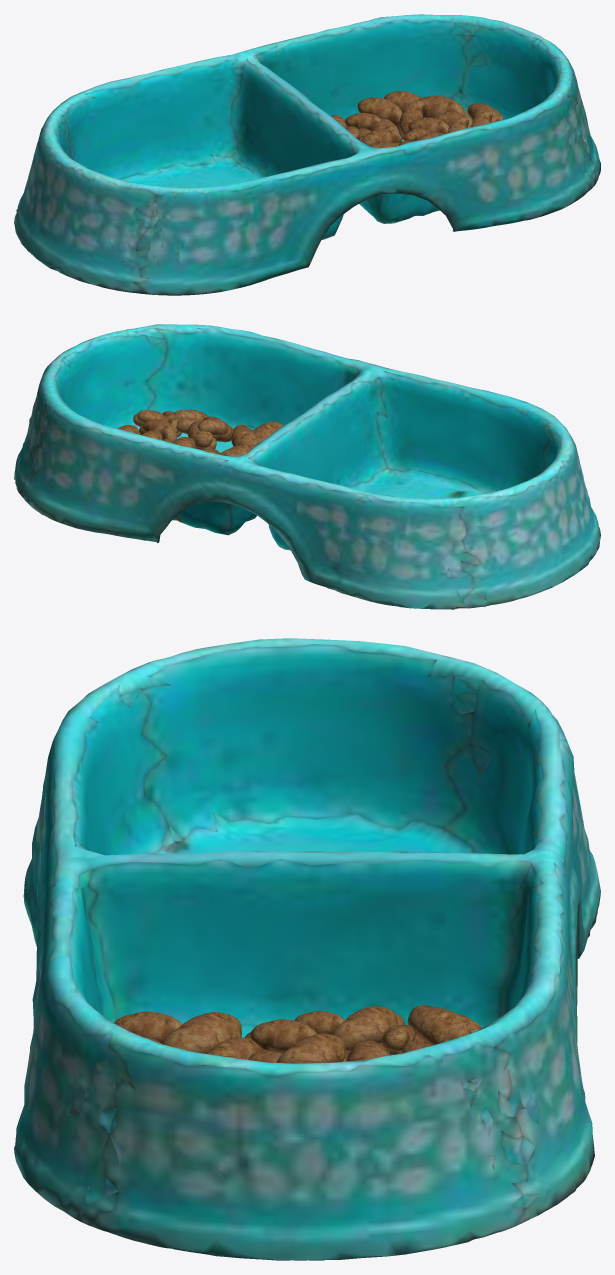
Rendered from cat food bowl with catfood.glb.
The picture shows the model from 3 angles, top to bottom: view 1: azimuth 30°, elevation 25°; view 2: azimuth 150°, elevation 25°; view 3: azimuth 270°, elevation 25°; orthographic projection. The views are drawn at different scales.
Parts seen in each view (by area): view 1: Mesh_0.005_Material_0.001_0, Russet Potato_Russet Potato PBR_0.028, Russet Potato_Russet Potato PBR_0.051, Russet Potato_Russet Potato PBR_0.066, Russet Potato_Russet Potato PBR_0.048, Russet Potato_Russet Potato PBR_0.047, Russet Potato_Russet Potato PBR_0.062, Russet Potato_Russet Potato PBR_0.030; view 2: Mesh_0.005_Material_0.001_0, Russet Potato_Russet Potato PBR_0.054, Russet Potato_Russet Potato PBR_0.010, Russet Potato_Russet Potato PBR_0.049, Russet Potato_Russet Potato PBR_0.068; view 3: Mesh_0.005_Material_0.001_0, Russet Potato_Russet Potato PBR_0.006, Russet Potato_Russet Potato PBR_0.059, Russet Potato_Russet Potato PBR_0.052, Russet Potato_Russet Potato PBR_0.057, Russet Potato_Russet Potato PBR_0.055, Russet Potato_Russet Potato PBR_0.014, Russet Potato_Russet Potato PBR_0.021.
Part boxes in pixels (x1=…): Mesh_0.005_Material_0.001_0: x1=14, y1=14, x2=600, y2=295; Russet Potato_Russet Potato PBR_0.028: x1=357, y1=97, x2=402, y2=126; Russet Potato_Russet Potato PBR_0.051: x1=418, y1=95, x2=465, y2=117; Russet Potato_Russet Potato PBR_0.066: x1=399, y1=100, x2=425, y2=135; Russet Potato_Russet Potato PBR_0.048: x1=408, y1=117, x2=448, y2=134; Russet Potato_Russet Potato PBR_0.047: x1=361, y1=129, x2=401, y2=145; Russet Potato_Russet Potato PBR_0.062: x1=345, y1=112, x2=380, y2=129; Russet Potato_Russet Potato PBR_0.030: x1=384, y1=91, x2=420, y2=112; Mesh_0.005_Material_0.001_0: x1=14, y1=324, x2=600, y2=609; Russet Potato_Russet Potato PBR_0.054: x1=142, y1=419, x2=176, y2=440; Russet Potato_Russet Potato PBR_0.010: x1=231, y1=424, x2=257, y2=446; Russet Potato_Russet Potato PBR_0.049: x1=188, y1=420, x2=212, y2=448; Russet Potato_Russet Potato PBR_0.068: x1=198, y1=418, x2=228, y2=434; Mesh_0.005_Material_0.001_0: x1=14, y1=638, x2=600, y2=1260; Russet Potato_Russet Potato PBR_0.006: x1=162, y1=1012, x2=241, y2=1053; Russet Potato_Russet Potato PBR_0.059: x1=407, y1=1005, x2=471, y2=1045; Russet Potato_Russet Potato PBR_0.052: x1=331, y1=1006, x2=397, y2=1051; Russet Potato_Russet Potato PBR_0.057: x1=250, y1=1019, x2=316, y2=1052; Russet Potato_Russet Potato PBR_0.055: x1=277, y1=1033, x2=345, y2=1063; Russet Potato_Russet Potato PBR_0.014: x1=114, y1=1011, x2=182, y2=1043; Russet Potato_Russet Potato PBR_0.021: x1=206, y1=1037, x2=268, y2=1059.
Size of the model in its own units: 3.34 by 0.5883 by 1.75.
Materials: 2 (2 with a texture image).
